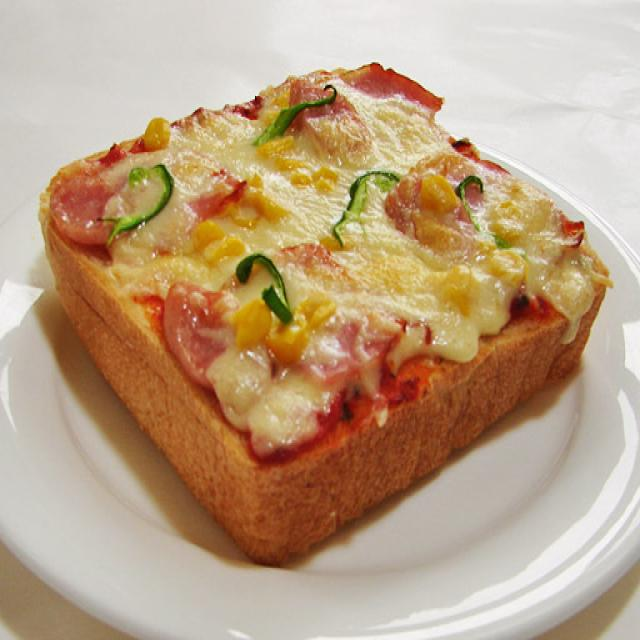面包点心: (13, 46, 615, 589)
